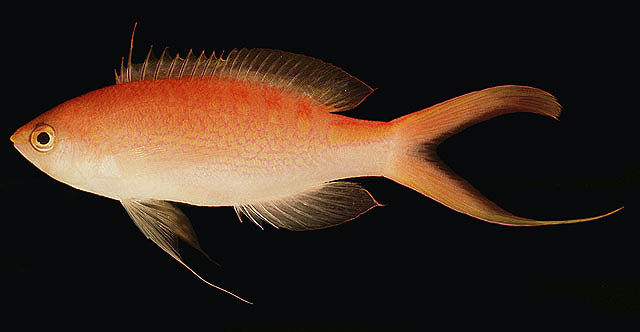fish: (9, 21, 623, 306)
